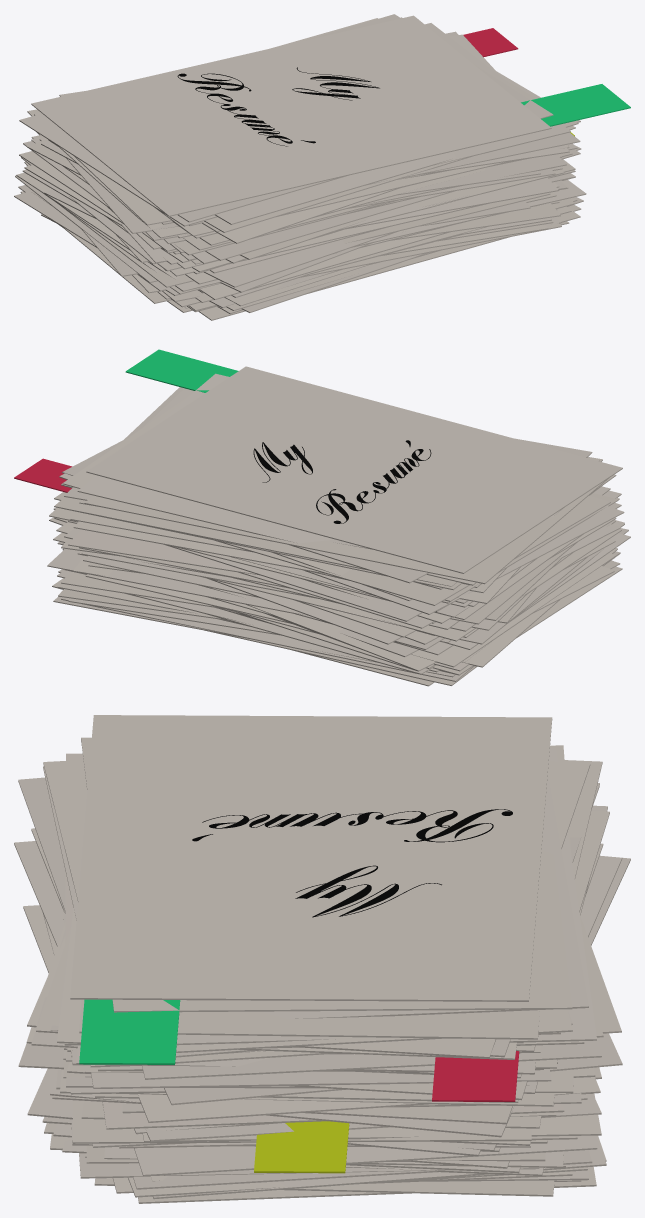
Rendered from paper.glb.
3 renders of one model, top to bottom at view 1: azimuth 30°, elevation 25°; view 2: azimuth 150°, elevation 25°; view 3: azimuth 270°, elevation 25°, orthographic. The views are drawn at different scales.
Parts seen in each view (by area): view 1: stack, Text; view 2: stack, Text; view 3: stack, Text.
Boxes of the visible parts, x1,y1,x2,y2 form: stack: (14, 14, 630, 320); Text: (177, 67, 379, 146); stack: (14, 349, 630, 686); Text: (253, 440, 431, 523); stack: (14, 715, 630, 1203); Text: (192, 809, 512, 917).
Bounding box in the file's own units: 2.55 × 0.6112 × 1.82.
